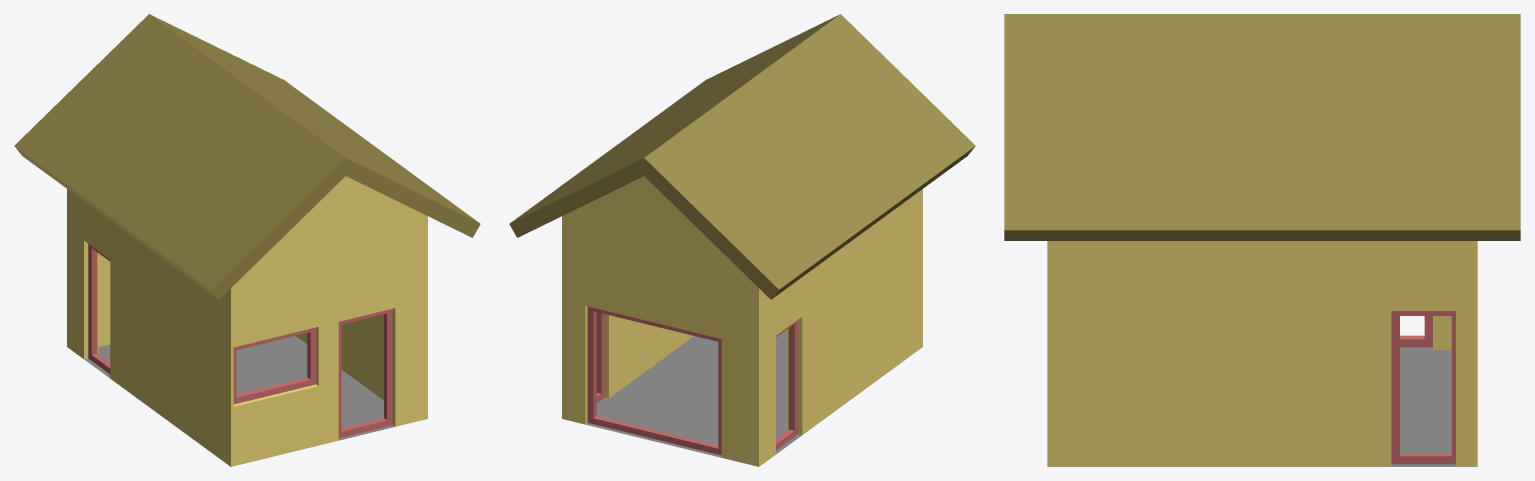
Rendered from result.glb.
3 views of the same model, side by side, from view 1: azimuth 30°, elevation 25°; view 2: azimuth 150°, elevation 25°; view 3: azimuth 270°, elevation 25° (orthographic). The views are drawn at different scales.
Visible parts, largest first — view 1: 51b05618-beef-4302-a047-4667e4017334__undefined, 1161b884-e73f-46e0-adcf-0019ca8370ea__undefined (×2), 4a8a225d-b479-444c-adbb-27f29e8653aa__Plane_6, 381f72fb-d8a8-4528-8b41-8676b2ea4459__Box, 20cbb4dd-2edd-48a2-868b-e8a128e7ab16__Box_3, 8e837602-279a-4207-bb5e-5e8fa4ded598__Box_12; view 2: 1161b884-e73f-46e0-adcf-0019ca8370ea__undefined (×2), 51b05618-beef-4302-a047-4667e4017334__undefined, 4a8a225d-b479-444c-adbb-27f29e8653aa__Plane_6, ae778bf2-7b11-47a0-86e7-e3d3210b5940__Box_9, 8e837602-279a-4207-bb5e-5e8fa4ded598__Box_12, 159e490a-5aab-45d4-81cb-a31f511fdf9a__Box_15; view 3: 1161b884-e73f-46e0-adcf-0019ca8370ea__undefined, 51b05618-beef-4302-a047-4667e4017334__undefined, 4a8a225d-b479-444c-adbb-27f29e8653aa__Plane_6, 159e490a-5aab-45d4-81cb-a31f511fdf9a__Box_15, 8e837602-279a-4207-bb5e-5e8fa4ded598__Box_12.
Part boxes in pixels (<box>): 51b05618-beef-4302-a047-4667e4017334__undefined: <box>67,176,427,466</box>; 1161b884-e73f-46e0-adcf-0019ca8370ea__undefined (×2): <box>14,14,480,299</box>; 4a8a225d-b479-444c-adbb-27f29e8653aa__Plane_6: <box>84,336,394,440</box>; 381f72fb-d8a8-4528-8b41-8676b2ea4459__Box: <box>338,309,392,437</box>; 20cbb4dd-2edd-48a2-868b-e8a128e7ab16__Box_3: <box>233,327,316,404</box>; 8e837602-279a-4207-bb5e-5e8fa4ded598__Box_12: <box>88,244,110,373</box>; 1161b884-e73f-46e0-adcf-0019ca8370ea__undefined (×2): <box>509,14,975,299</box>; 51b05618-beef-4302-a047-4667e4017334__undefined: <box>562,176,922,466</box>; 4a8a225d-b479-444c-adbb-27f29e8653aa__Plane_6: <box>586,329,801,457</box>; ae778bf2-7b11-47a0-86e7-e3d3210b5940__Box_9: <box>587,306,721,455</box>; 8e837602-279a-4207-bb5e-5e8fa4ded598__Box_12: <box>776,320,797,449</box>; 159e490a-5aab-45d4-81cb-a31f511fdf9a__Box_15: <box>596,312,604,402</box>; 1161b884-e73f-46e0-adcf-0019ca8370ea__undefined: <box>1004,14,1520,240</box>; 51b05618-beef-4302-a047-4667e4017334__undefined: <box>1047,241,1477,466</box>; 4a8a225d-b479-444c-adbb-27f29e8653aa__Plane_6: <box>1391,347,1455,466</box>; 159e490a-5aab-45d4-81cb-a31f511fdf9a__Box_15: <box>1391,311,1455,464</box>; 8e837602-279a-4207-bb5e-5e8fa4ded598__Box_12: <box>1400,316,1432,347</box>.
Size of the model in its own units: 476 by 500 by 600.
